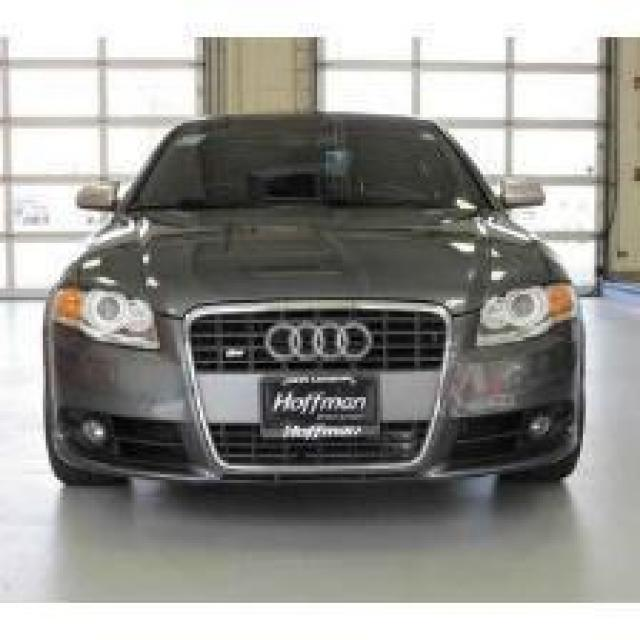damaged: (437, 342, 592, 418)
